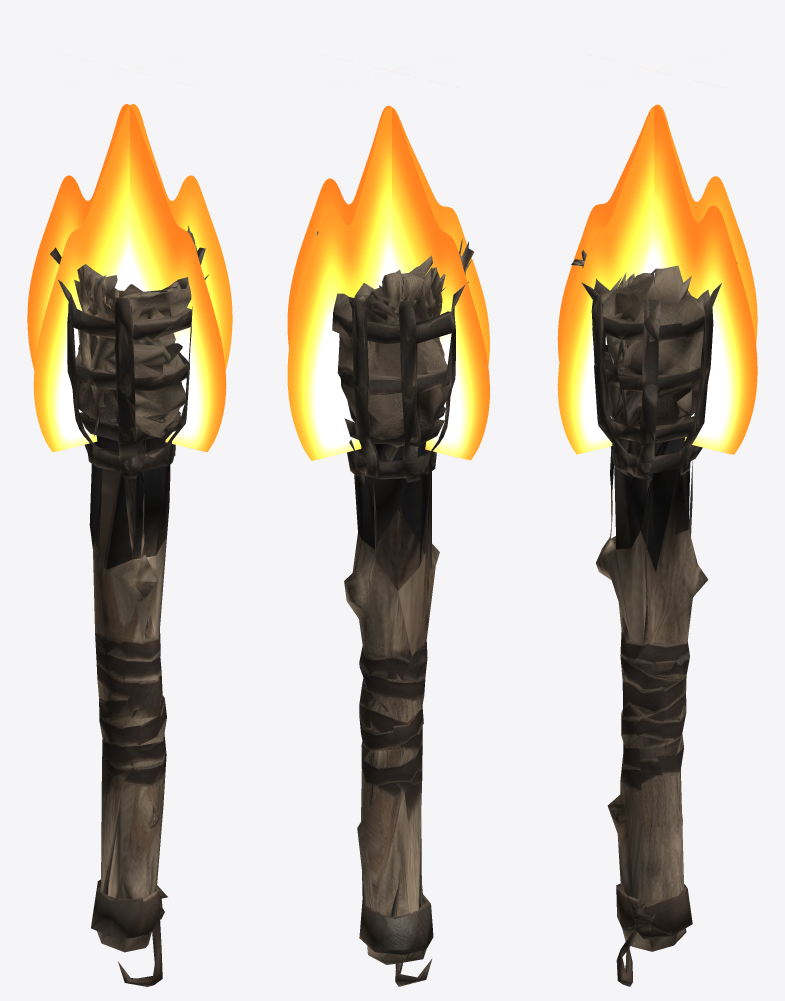
File: torcia_achea.gltf
The picture shows the model from 3 angles, left to right: view 1: azimuth 30°, elevation 25°; view 2: azimuth 150°, elevation 25°; view 3: azimuth 270°, elevation 25°; orthographic projection.
Parts seen in each view (by area): view 1: Mesh_0, flame; view 2: Mesh_0, flame; view 3: Mesh_0, flame.
Part boxes in pixels (box(x1,y1,x2,y2)): Mesh_0: box(50, 226, 209, 986); flame: box(27, 104, 232, 451); Mesh_0: box(317, 231, 473, 986); flame: box(287, 71, 489, 460); Mesh_0: box(571, 250, 737, 986); flame: box(557, 70, 757, 454).
Bounding box in the file's own units: 0.2 × 0.7508 × 0.1732.
Materials: 2 (2 with a texture image).
